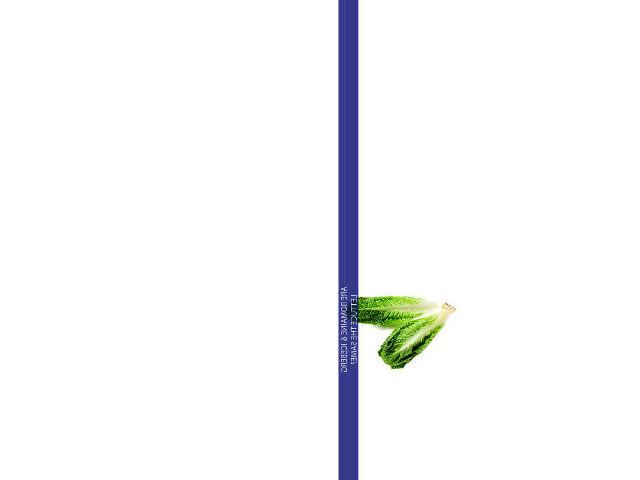lettuce: (373, 303, 465, 365)
